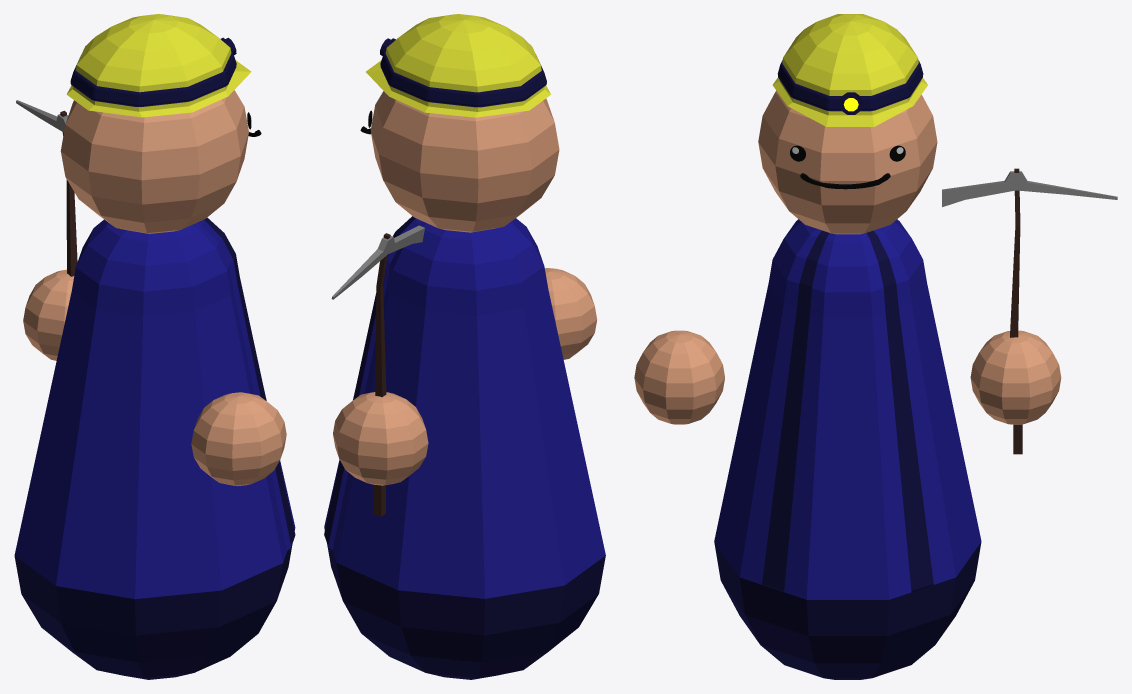
Rendered from Mesh_Char_Miner.fbx.
3 views of the same model, side by side, from view 1: azimuth 30°, elevation 25°; view 2: azimuth 150°, elevation 25°; view 3: azimuth 270°, elevation 25° (orthographic).
Visible parts, largest first — view 1: Cube.012, Circle.005, Circle.006, Cube.013, Plane.001; view 2: Cube.012, Circle.005, Circle.006, Cube.013, Plane.001; view 3: Cube.012, Circle.005, Circle.006, Plane.001, Cube.013.
Part boxes in pixels (left/top/right/bottom): Cube.012: left=14, top=90, right=295, bottom=679; Circle.005: left=66, top=14, right=251, bottom=117; Circle.006: left=70, top=51, right=236, bottom=106; Cube.013: left=60, top=110, right=77, bottom=276; Plane.001: left=16, top=100, right=67, bottom=132; Cube.012: left=324, top=91, right=605, bottom=679; Circle.005: left=366, top=14, right=550, bottom=117; Circle.006: left=380, top=52, right=546, bottom=107; Cube.013: left=373, top=233, right=390, bottom=516; Plane.001: left=331, top=225, right=424, bottom=299; Cube.012: left=634, top=90, right=1061, bottom=679; Circle.005: left=772, top=14, right=927, bottom=126; Circle.006: left=777, top=60, right=923, bottom=111; Plane.001: left=942, top=171, right=1117, bottom=207; Cube.013: left=1010, top=168, right=1022, bottom=454.
Size of the model in its own units: 81.97 by 212 by 143.
